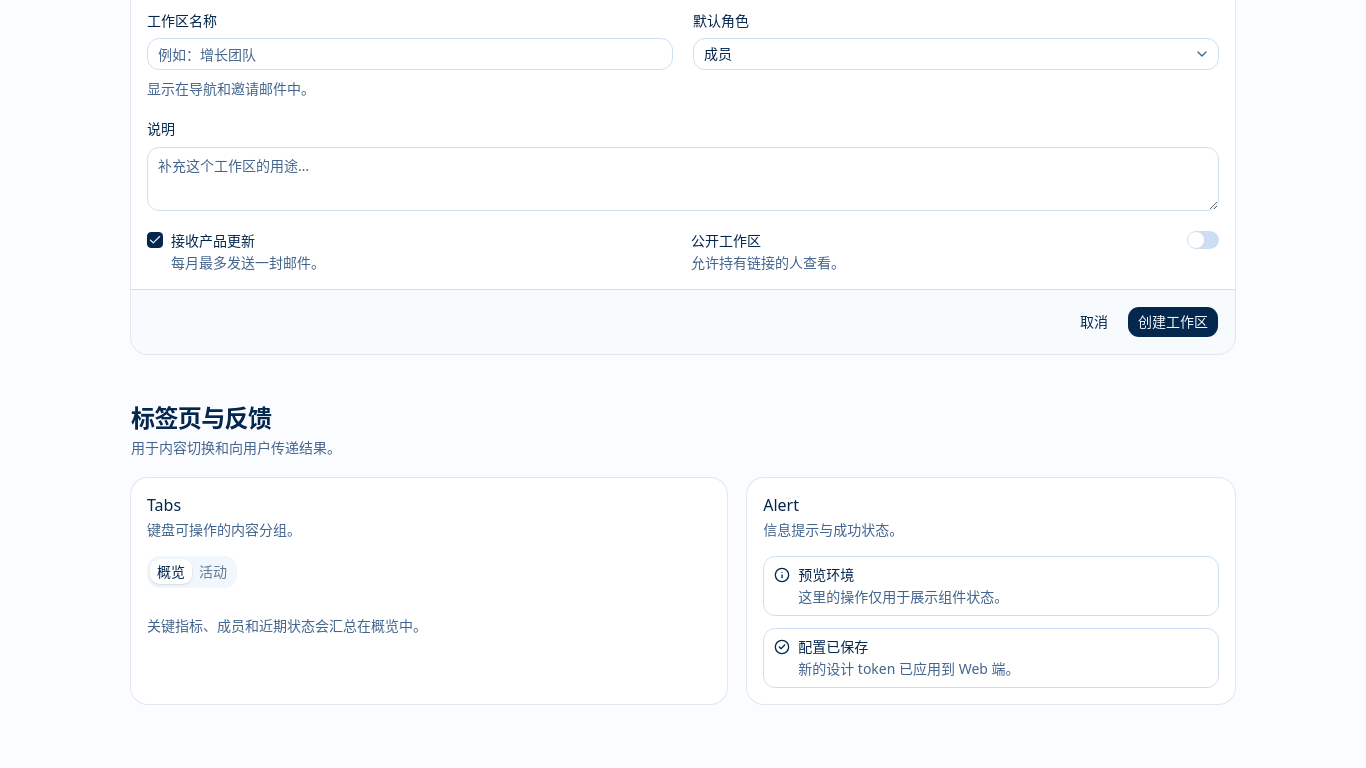
Test: ComponentPreview › switches the visible tab example
The width and height of the screenshot is (1366, 768).
(page scrolled)
Click the tab "活动" at {"x": 213, "y": 572}, box [192,559,234,584]
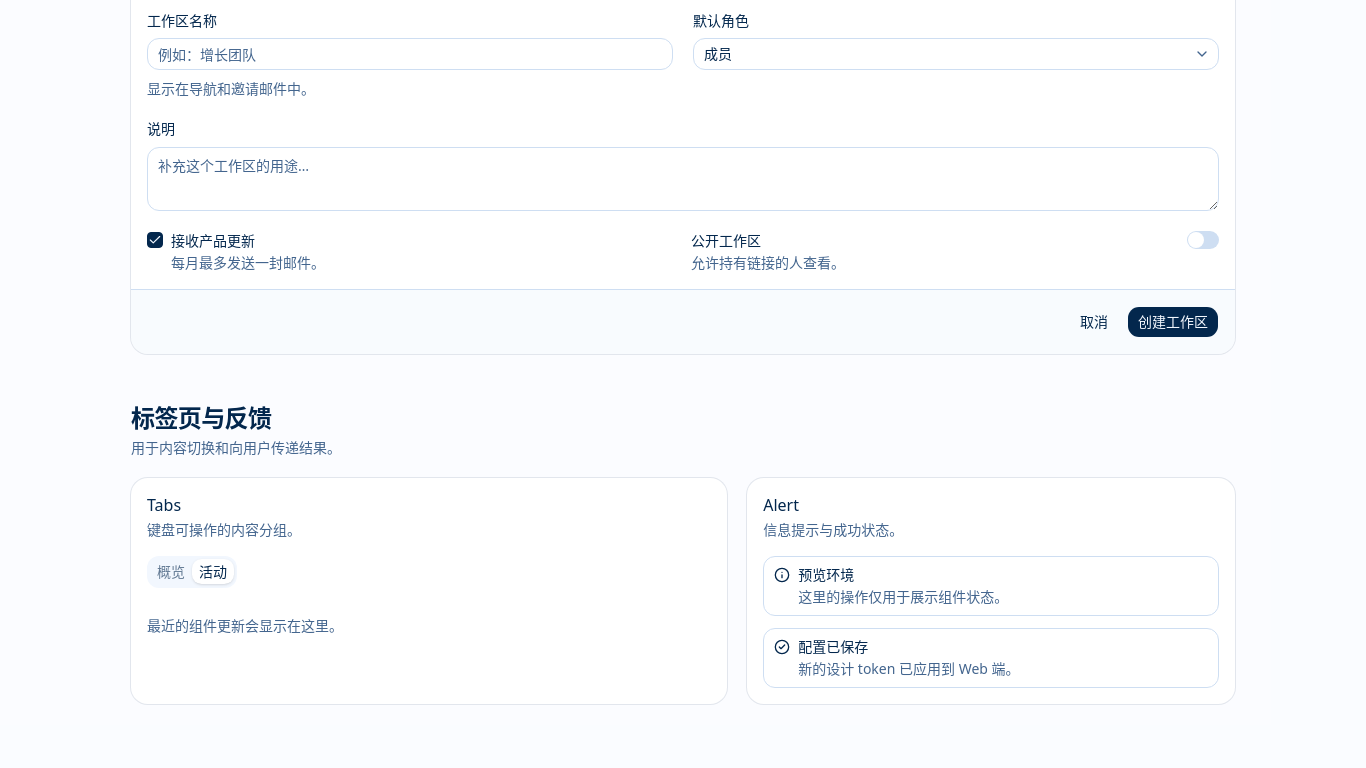
Now the panel named "活动" reads "最近的组件更新会显示在这里。", box [147,616,343,635]
